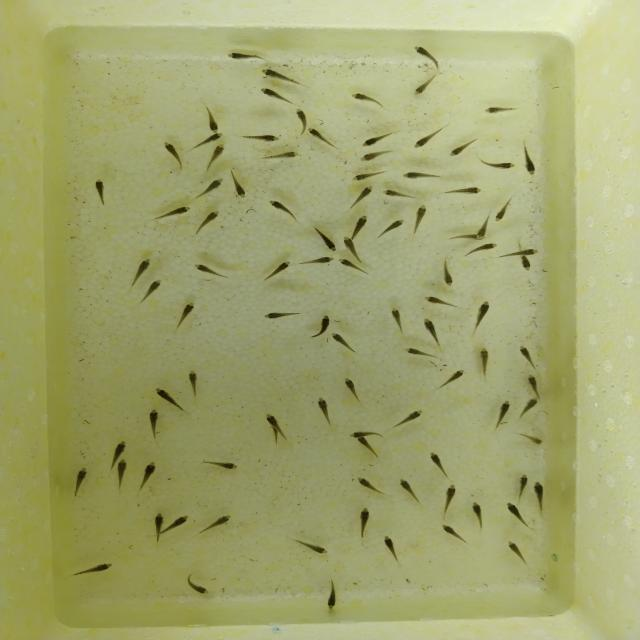fingerling: (151, 382, 184, 410), (264, 256, 298, 282), (202, 512, 242, 533), (138, 462, 161, 494), (195, 177, 224, 201), (228, 170, 251, 200), (252, 86, 288, 105), (269, 198, 300, 220), (392, 412, 423, 434), (71, 467, 93, 498), (194, 209, 218, 237), (400, 477, 424, 505), (425, 448, 447, 478), (441, 482, 459, 518), (313, 225, 337, 252), (472, 300, 491, 334), (378, 216, 408, 237), (436, 371, 462, 395), (358, 476, 386, 498), (155, 204, 193, 220), (386, 303, 406, 333), (329, 332, 355, 355), (348, 212, 371, 238), (293, 539, 326, 557), (176, 299, 198, 326), (422, 320, 443, 348), (411, 42, 439, 63), (502, 502, 526, 526), (502, 537, 525, 562), (477, 346, 492, 384), (445, 139, 472, 160), (105, 436, 132, 457), (435, 521, 463, 541), (158, 140, 183, 162), (90, 177, 108, 207), (496, 196, 515, 224), (185, 579, 213, 598), (517, 395, 538, 420), (336, 256, 365, 274), (145, 276, 165, 302), (74, 563, 114, 576), (315, 310, 335, 336), (145, 406, 162, 436), (469, 497, 486, 527), (346, 379, 364, 407), (346, 92, 382, 106), (317, 401, 335, 429), (354, 505, 368, 541), (534, 474, 546, 516), (504, 247, 545, 259), (352, 186, 375, 207), (514, 473, 530, 503), (382, 532, 399, 560), (304, 125, 329, 144), (408, 133, 434, 151), (260, 148, 299, 160), (326, 581, 340, 614), (496, 399, 513, 426), (411, 76, 430, 100), (134, 253, 153, 277), (519, 343, 537, 368), (356, 136, 388, 150), (413, 204, 428, 233), (354, 437, 378, 455), (257, 66, 284, 82), (526, 371, 542, 398), (186, 368, 199, 401), (523, 148, 538, 176), (171, 512, 191, 533), (379, 189, 414, 201), (289, 103, 309, 124), (442, 255, 455, 287), (471, 240, 505, 252), (193, 262, 222, 276), (396, 170, 436, 180), (151, 512, 166, 538), (205, 110, 220, 136), (207, 461, 242, 472), (348, 170, 380, 182), (199, 131, 230, 143), (423, 294, 454, 306), (223, 51, 259, 61), (342, 430, 378, 440), (246, 134, 284, 143), (264, 414, 283, 431), (477, 218, 493, 238), (356, 152, 388, 162), (117, 458, 127, 490), (516, 435, 551, 444), (212, 143, 226, 165), (401, 348, 430, 358), (342, 236, 358, 253), (485, 160, 515, 169), (308, 256, 335, 266), (263, 312, 290, 321), (520, 254, 533, 272), (485, 107, 520, 113), (456, 188, 482, 196), (451, 235, 485, 241)
